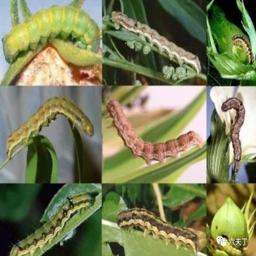Tobacco_budworm: (107, 99, 204, 165), (2, 3, 100, 64), (111, 9, 202, 74), (5, 94, 94, 160), (8, 191, 93, 256), (116, 207, 199, 256), (219, 97, 245, 175), (232, 34, 254, 63), (219, 237, 241, 256)
